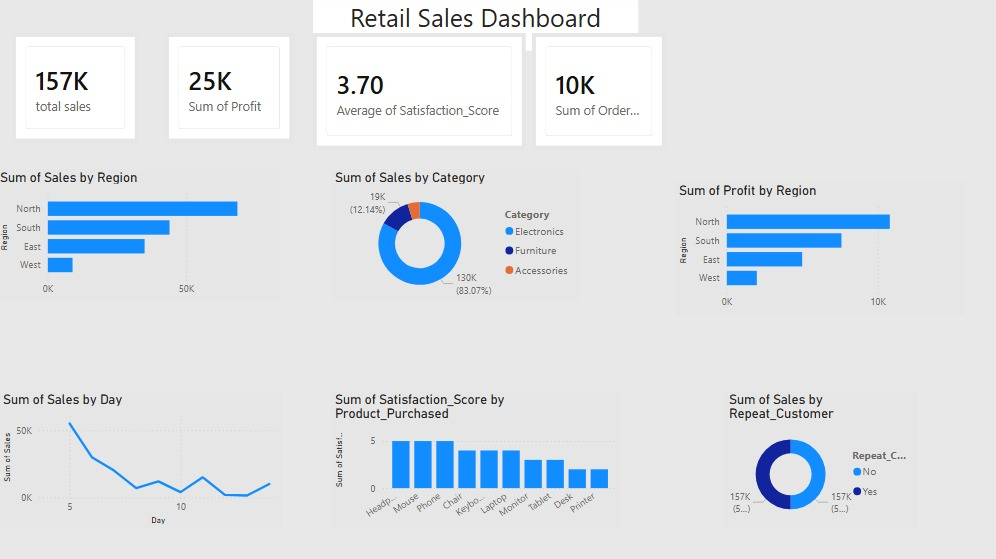

The dashboard page shown, as its layout file describes it:
{"tool":"powerbi","page":{"name":"Page 1","canvas":[1280,720],"ordinal":0},"visuals":[{"type":"cardVisual","fields":{"Data":["Customer_Relationships.total sales"]},"box":[73.3,81,161.9,140.1],"z":0},{"type":"cardVisual","fields":{"Data":["Sum(Sales_Data.Profit)"]},"box":[306.9,66.5,165,135.5],"z":1000},{"type":"cardVisual","fields":{"Rows":["Customer_Relationships.Satisfaction_Score"]},"box":[661.1,26.9,162.4,175.2],"z":2000},{"type":"clusteredBarChart","fields":{"Category":["Sales_Data.Region"],"Y":["Sum(Sales_Data.Sales)"]},"box":[72.9,200.8,364.4,239.1],"z":3000},{"type":"pieChart","fields":{"Category":["Sales_Data.Category"],"Y":["Sum(Sales_Data.Sales)"]},"box":[506.4,200.8,317.1,239.1],"z":4000},{"type":"columnChart","fields":{"Y":["Sum(Customer_Relationships.Satisfaction_Score)"],"Category":["Customer_Relationships.Product_Purchased"]},"box":[892.5,200.8,370.8,239.1],"z":5000},{"type":"donutChart","fields":{"Category":["Customer_Relationships.Repeat_Customer"],"Y":["Sum(Sales_Data.Sales)"]},"box":[1016.6,487.2,246.8,209.7],"z":6000},{"type":"lineChart","fields":{"Category":["Sales_Data.Date.Variation.Date Hierarchy.Day"],"Y":["Sum(Sales_Data.Sales)"]},"box":[72.9,487.2,360.6,211],"z":7000},{"type":"advancedSlicerVisual","fields":{"Values":["Sales_Data.Region"],"Label":["Min(Sales_Data.Date)"]},"box":[506.4,487.2,411.7,209.7],"z":8000},{"type":"textbox","box":[110,0,372.1,70.3],"z":8001},{"type":"barChart","fields":{"Y":["Sum(Sales_Data.Profit)"],"Category":["Sales_Data.Region"]},"box":[892.5,24.3,370.8,165],"z":8002}]}

Visuals, with their boxes in screenshot pixels (x1, y1, x2, y2), scaled from the page's 1280x720 canvas onto the 996x559 screenshot:
cardVisual - Customer_Relationships.total sales: left=57, top=63, right=183, bottom=172
cardVisual - Sum(Sales_Data.Profit): left=239, top=52, right=367, bottom=157
cardVisual - Customer_Relationships.Satisfaction_Score: left=514, top=21, right=641, bottom=157
clusteredBarChart - Sales_Data.Region x Sum(Sales_Data.Sales): left=57, top=156, right=340, bottom=342
pieChart - Sales_Data.Category x Sum(Sales_Data.Sales): left=394, top=156, right=641, bottom=342
columnChart - Sum(Customer_Relationships.Satisfaction_Score) x Customer_Relationships.Product_Purchased: left=694, top=156, right=983, bottom=342
donutChart - Customer_Relationships.Repeat_Customer x Sum(Sales_Data.Sales): left=791, top=378, right=983, bottom=541
lineChart - Sales_Data.Date.Variation.Date Hierarchy.Day x Sum(Sales_Data.Sales): left=57, top=378, right=337, bottom=542
advancedSlicerVisual - Sales_Data.Region x Min(Sales_Data.Date): left=394, top=378, right=714, bottom=541
textbox: left=86, top=0, right=375, bottom=55
barChart - Sum(Sales_Data.Profit) x Sales_Data.Region: left=694, top=19, right=983, bottom=147
